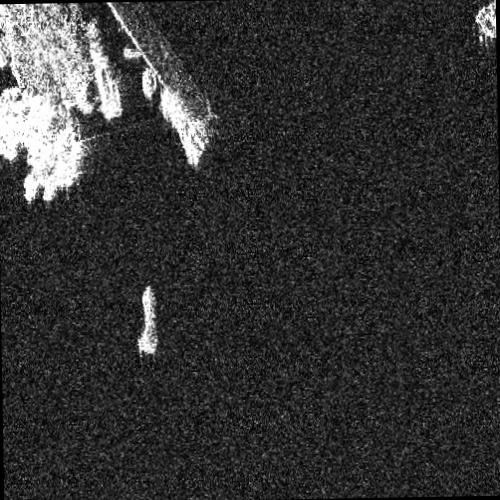ship: (139, 285, 158, 357)
